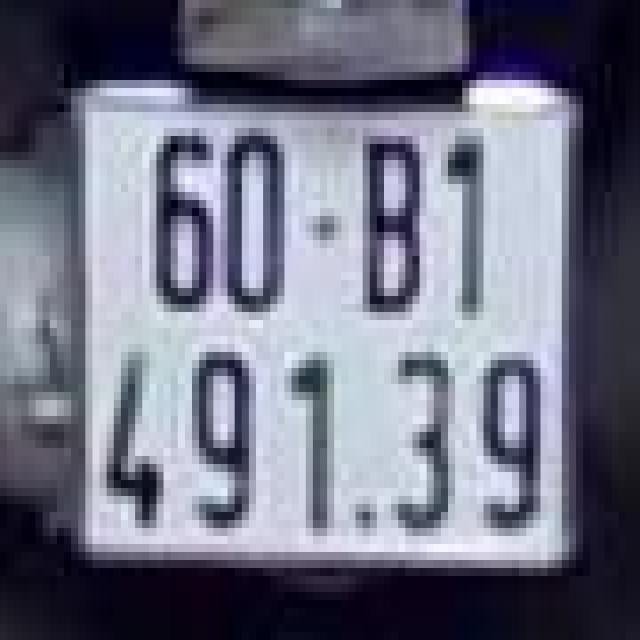0: (220, 116, 298, 332)
1: (438, 112, 508, 320), (281, 332, 338, 548)
3: (394, 316, 452, 540)
4: (89, 312, 167, 544)
6: (135, 112, 213, 336)
9: (462, 316, 534, 540), (182, 320, 252, 536)
B: (348, 128, 441, 336)
